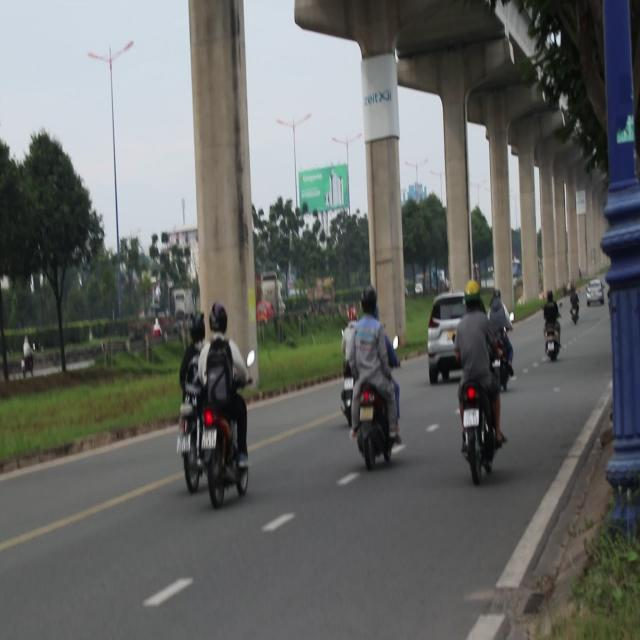car: (426, 290, 484, 383), (587, 280, 608, 307)
motorbike: (205, 398, 252, 525), (355, 380, 402, 486), (456, 384, 500, 495), (171, 397, 210, 497), (482, 318, 520, 384), (19, 322, 51, 396), (333, 359, 364, 428), (537, 314, 563, 365), (148, 307, 174, 356), (568, 281, 581, 332)
